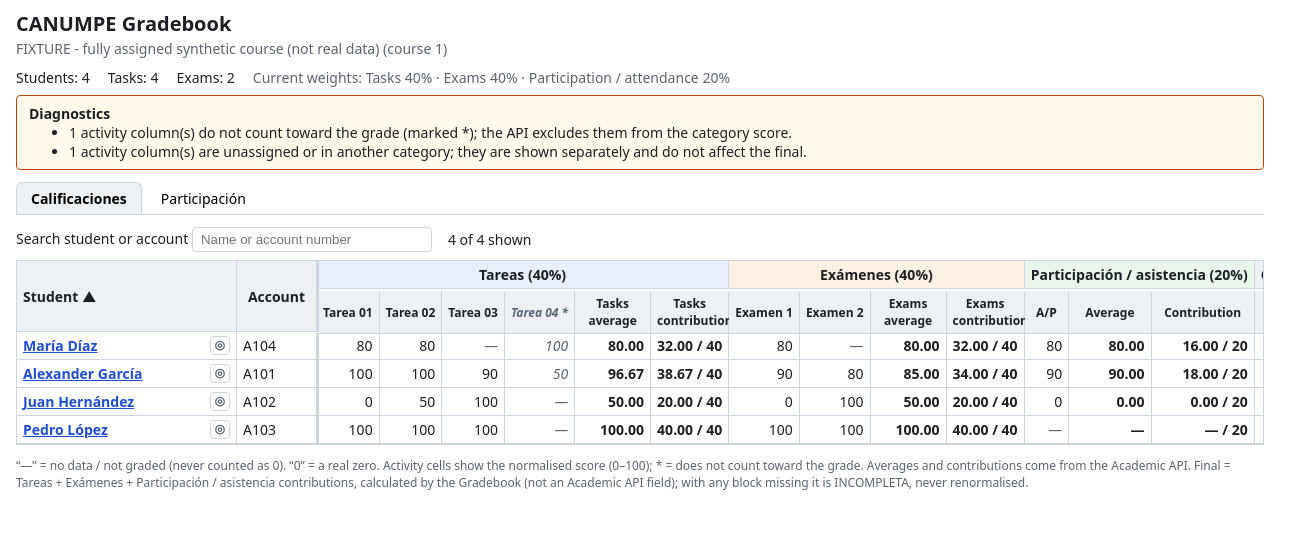
Test case: Participación tab › C. clicking the selected value again clears it: an empty control sends nothing
Expected: the table is shown, [17,261,1264,444]
What coordinates should you click on to do the following:
click the tab "Participación"
I would click on:
 (203, 198)
Its box is [146,182,261,214].
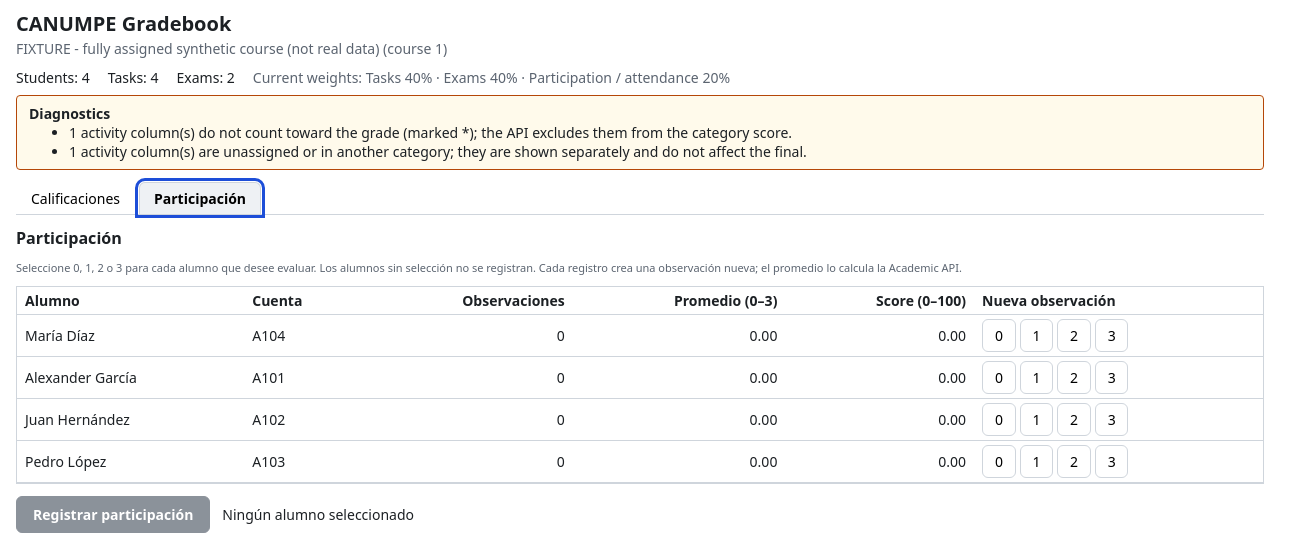
What coordinates should you click on to do the following:
click the radio button labelled "2" in the row of "Pedro López"
I would click on:
 (1074, 462)
Its box is [1057,445,1091,478].
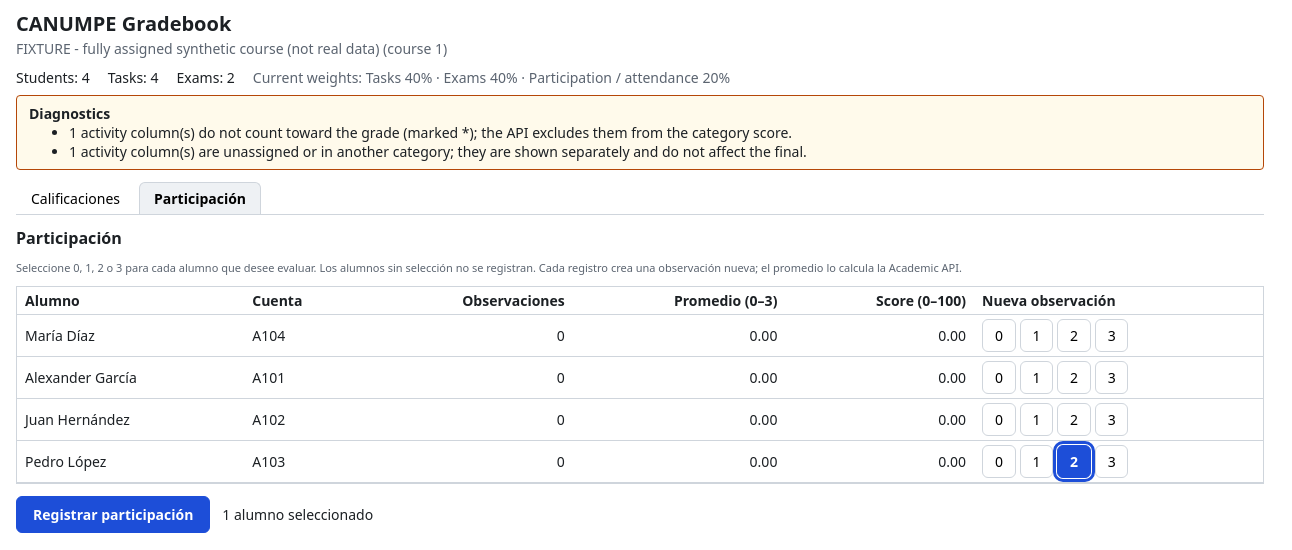
Result: the button "Registrar participación" is enabled at [16,496,210,533]
What coordinates should you click on to do the following:
click the radio button labelled "2" in the row of "Pedro López"
I would click on:
 (1074, 462)
Its box is [1057,445,1091,478].
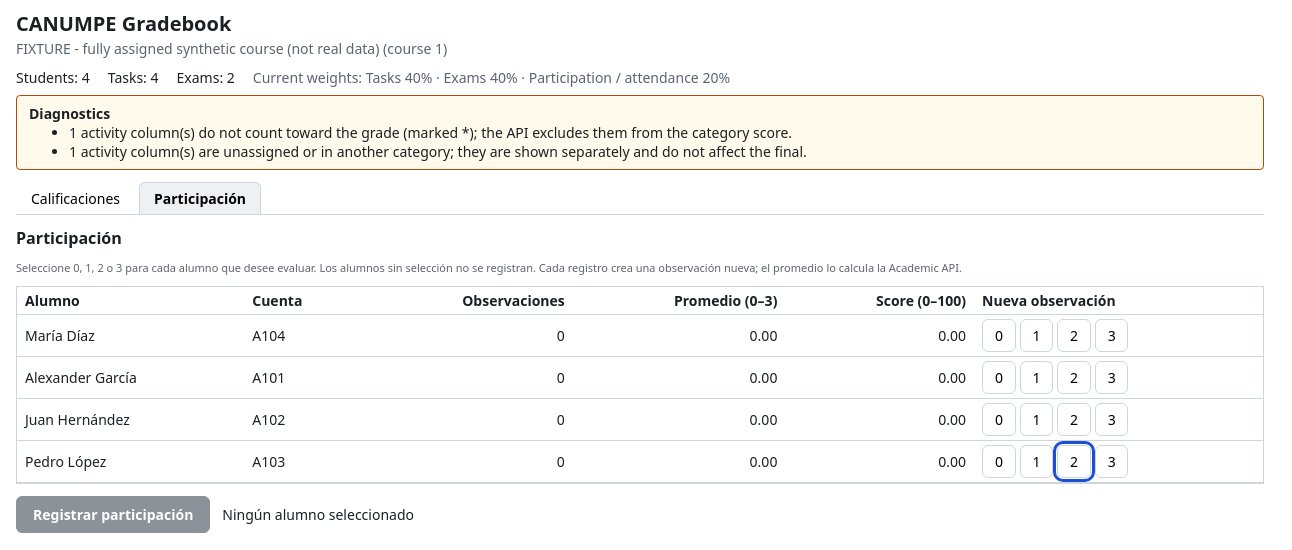
Result: the button "Registrar participación" is disabled at [16,496,210,533]
